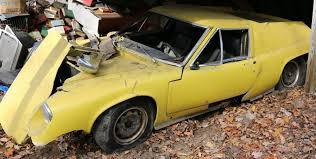Front-Windscreen-Damage: (135, 11, 202, 56)
Headlight-Damage: (24, 96, 70, 133)
bonnet-dent: (57, 33, 147, 79)
doorouter-dent: (211, 31, 262, 95)
